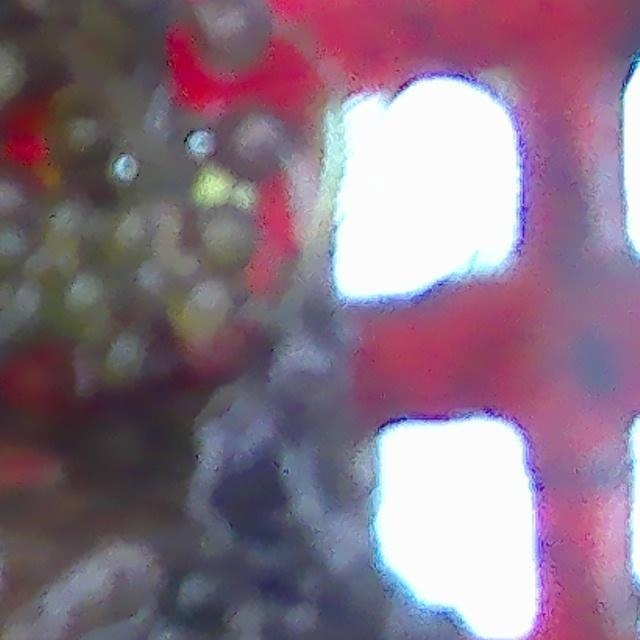SeaGrape: (219, 107, 281, 181)
